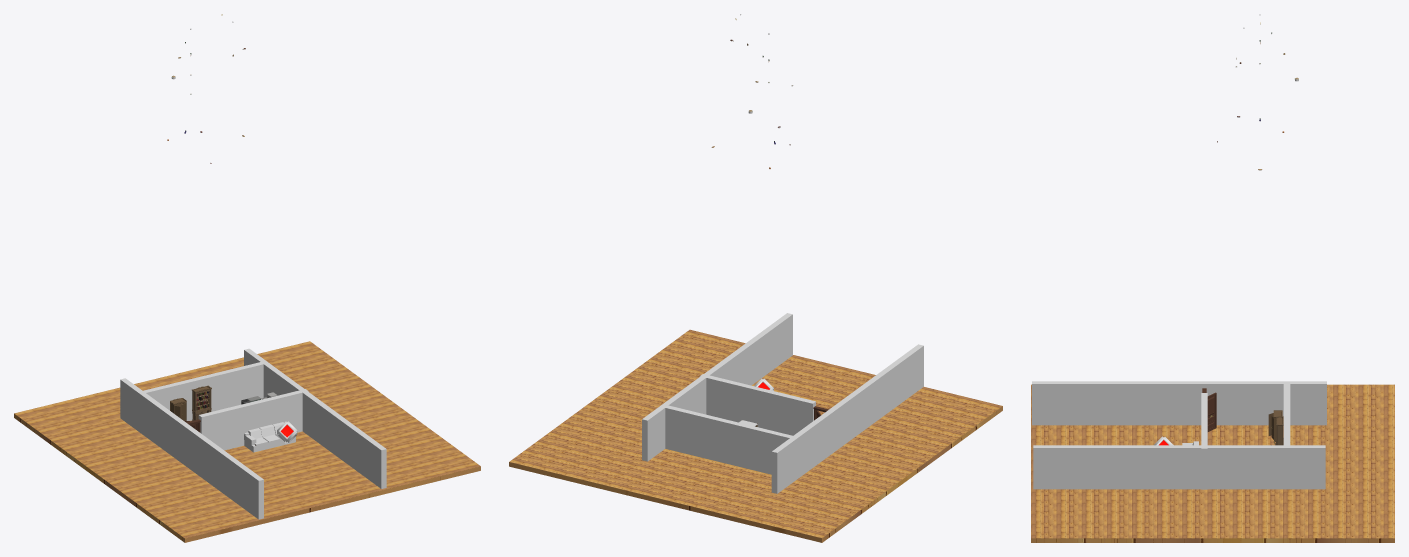
Rendered from World.glb.
3 views of the same model, side by side, from view 1: azimuth 30°, elevation 25°; view 2: azimuth 150°, elevation 25°; view 3: azimuth 270°, elevation 25° (orthographic). The views are drawn at different scales.
Visible parts, largest first — view 1: Floor, Wall, Wall.001, Wall.003, Wall.002, BookCase_Single.001; view 2: Floor, Wall, Wall.001, Wall.002, Wall.003; view 3: Floor, Wall.001, Wall, Wall.003, Wall.002.
Part boxes in pixels (x1,y1,x2,y2): Floor: (14,341,480,542); Wall: (120,378,263,519); Wall.001: (244,348,386,488); Wall.003: (198,389,308,450); Wall.002: (143,362,263,420); BookCase_Single.001: (192,385,211,420); Floor: (509,329,1002,542); Wall: (771,344,923,493); Wall.001: (642,313,792,461); Wall.002: (665,405,793,474); Wall.003: (699,374,815,435); Floor: (1031,384,1394,542); Wall.001: (1033,445,1325,489); Wall: (1032,381,1326,425); Wall.003: (1201,393,1207,489); Wall.002: (1283,384,1290,445).
Size of what is drawn, in the model's own units: 27.97 by 37.47 by 27.97.
86 materials, 1 textured.
